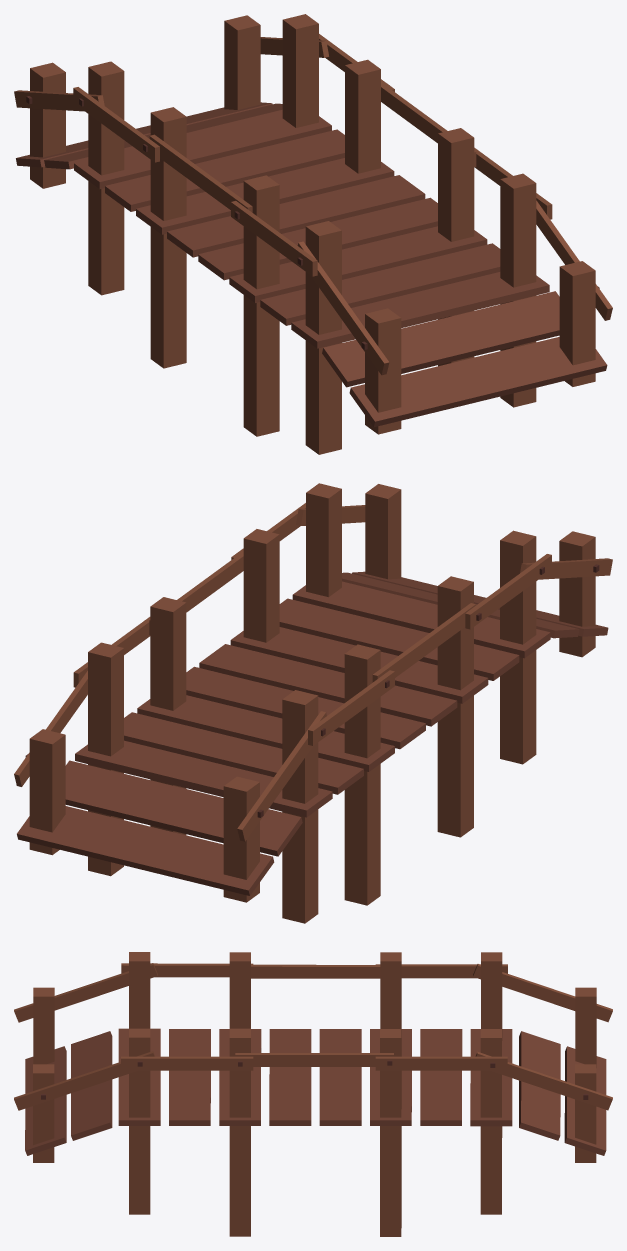
File: bridge.fbx
3 views of the same model, one above another, from view 1: azimuth 30°, elevation 25°; view 2: azimuth 150°, elevation 25°; view 3: azimuth 270°, elevation 25° (orthographic). The views are drawn at different scales.
Parts seen in each view (by area): view 1: railings, bridge; view 2: railings, bridge; view 3: railings, bridge.
Boxes of the visible parts, x1,y1,x2,y2 form: railings: (14, 14, 612, 454); bridge: (16, 102, 607, 427); railings: (14, 483, 612, 923); bridge: (17, 571, 608, 895); railings: (14, 952, 612, 1236); bridge: (25, 1028, 606, 1155).
Bounding box in the file's own units: 104 × 100 × 273.
